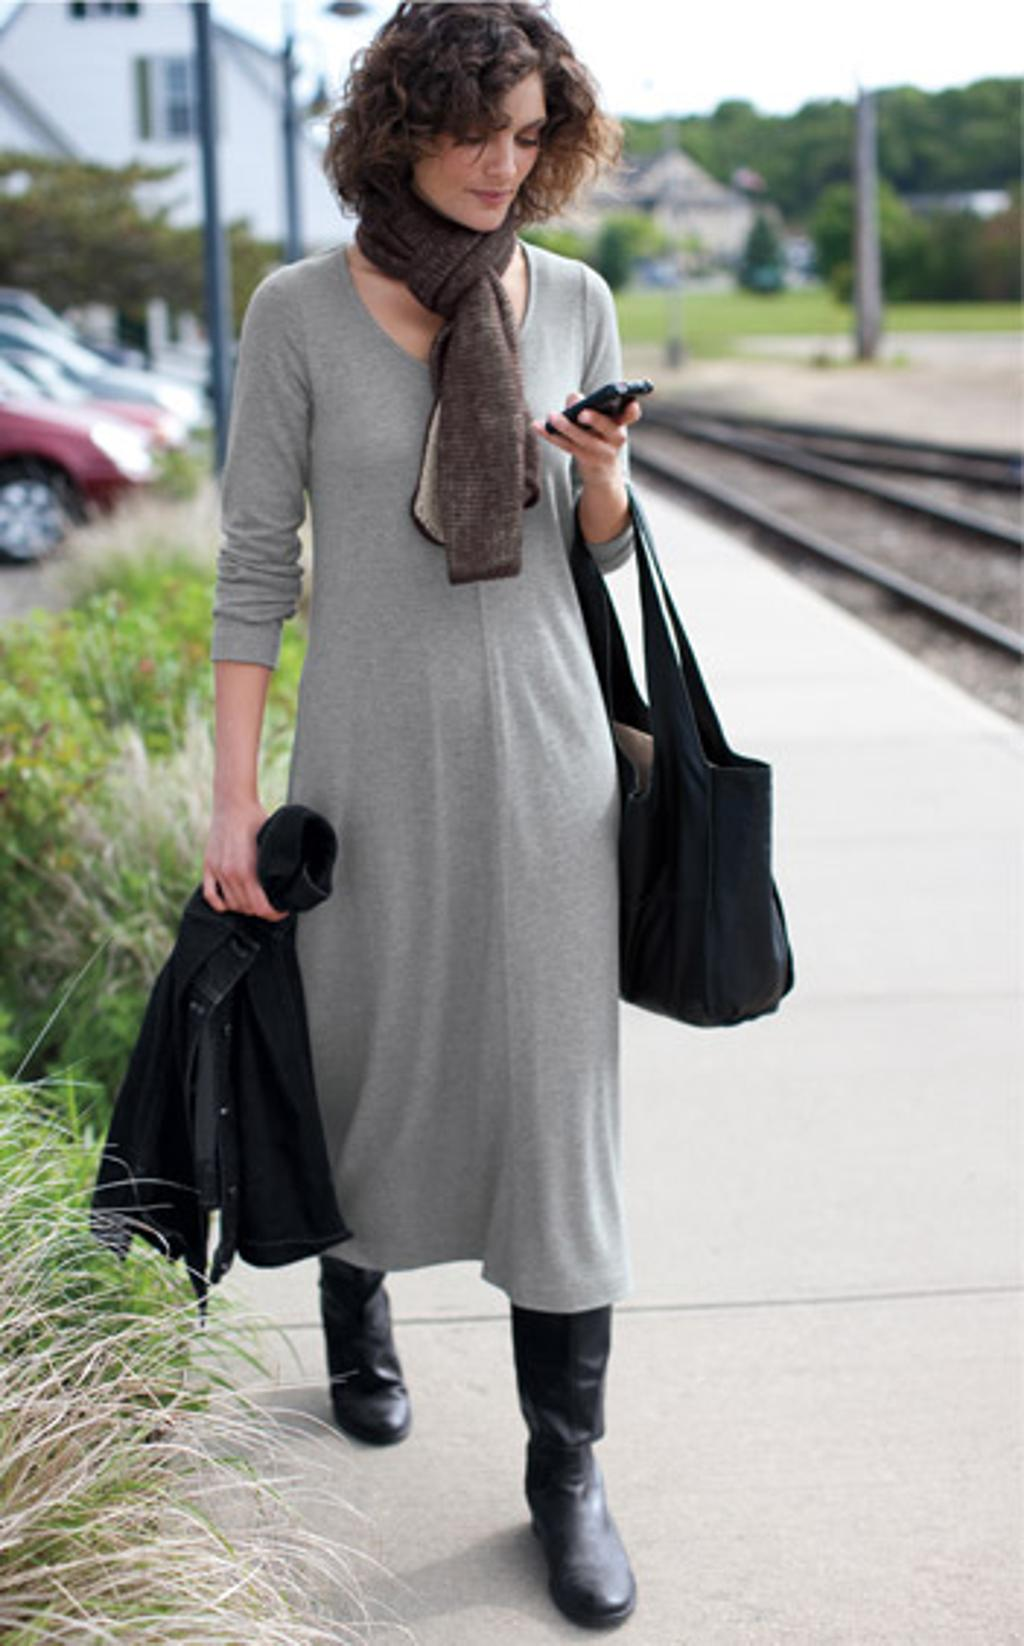face: (408, 51, 543, 231)
